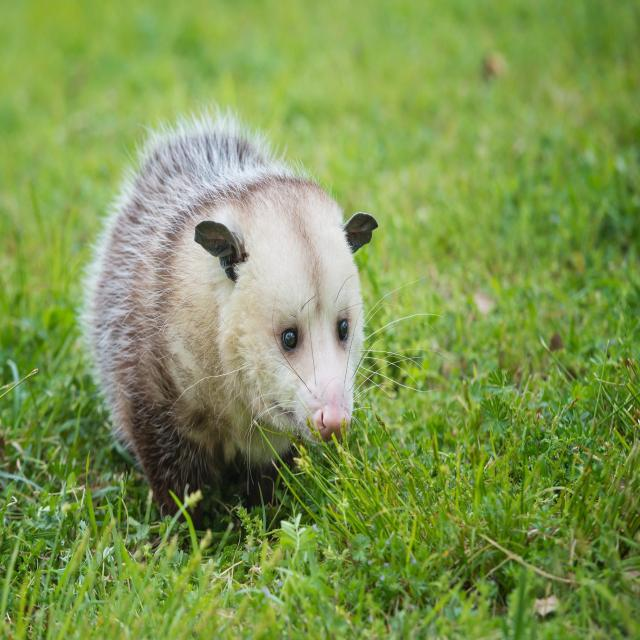Possum: (88, 121, 379, 520)
